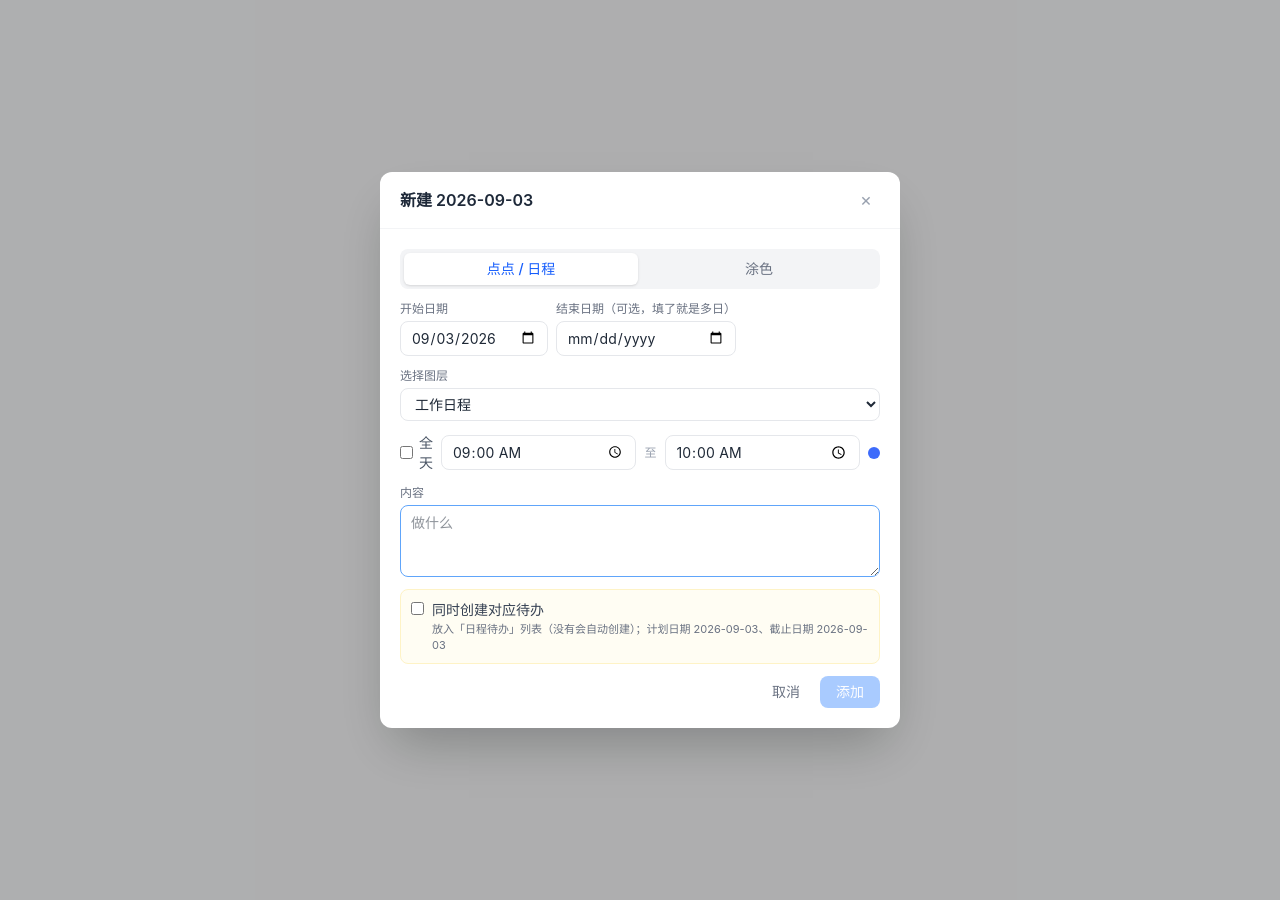
Scenario: DayEntryDialog 校验 › 11. 点点模式没填内容 → 保存按钮禁用
expect the button "添加" is disabled: met, box [820,676,880,708]
In the text box with placeholder "做什么": point(640, 541) [400,505,880,577], type "有内容了"
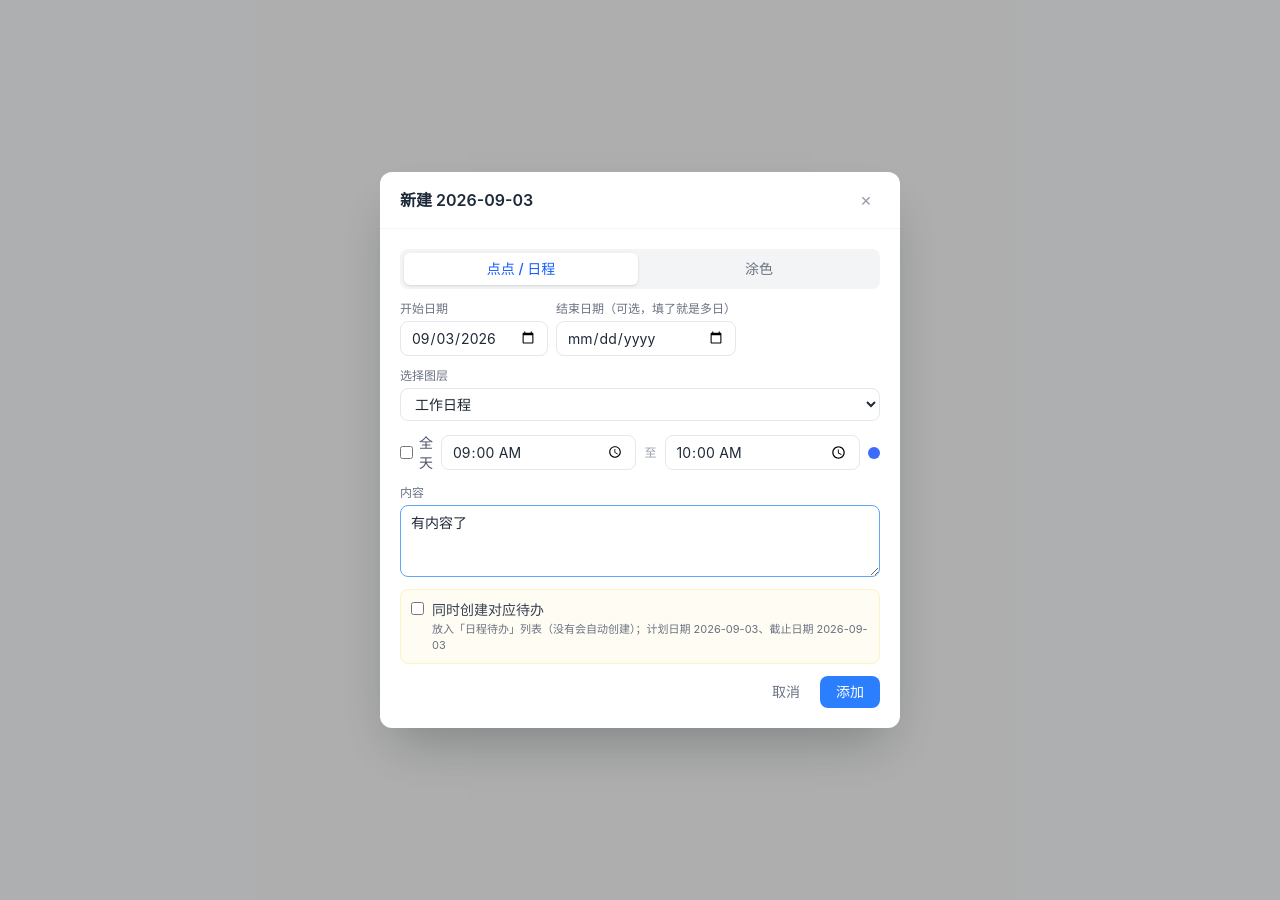
expect the button "添加" is enabled: met, box [820,676,880,708]
